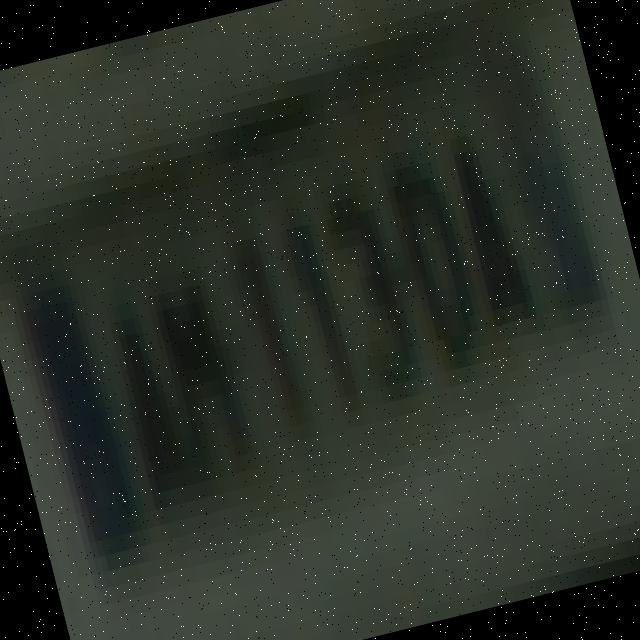Autre: (4, 0, 607, 585)
